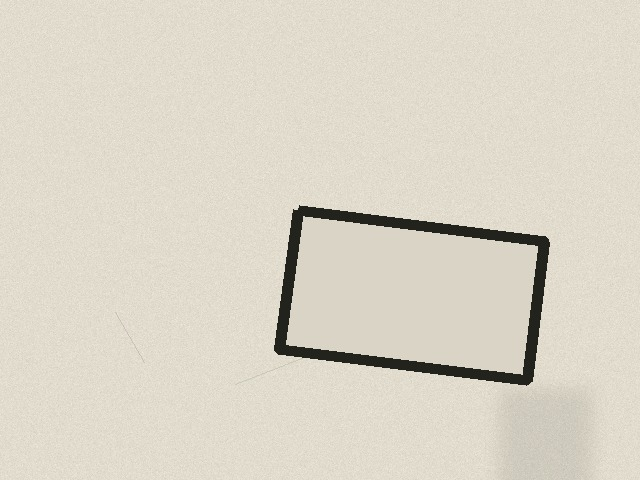parking_area: (279, 210, 544, 380)
